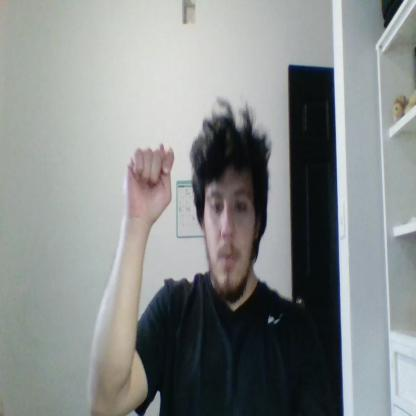T: (124, 142, 174, 224)
